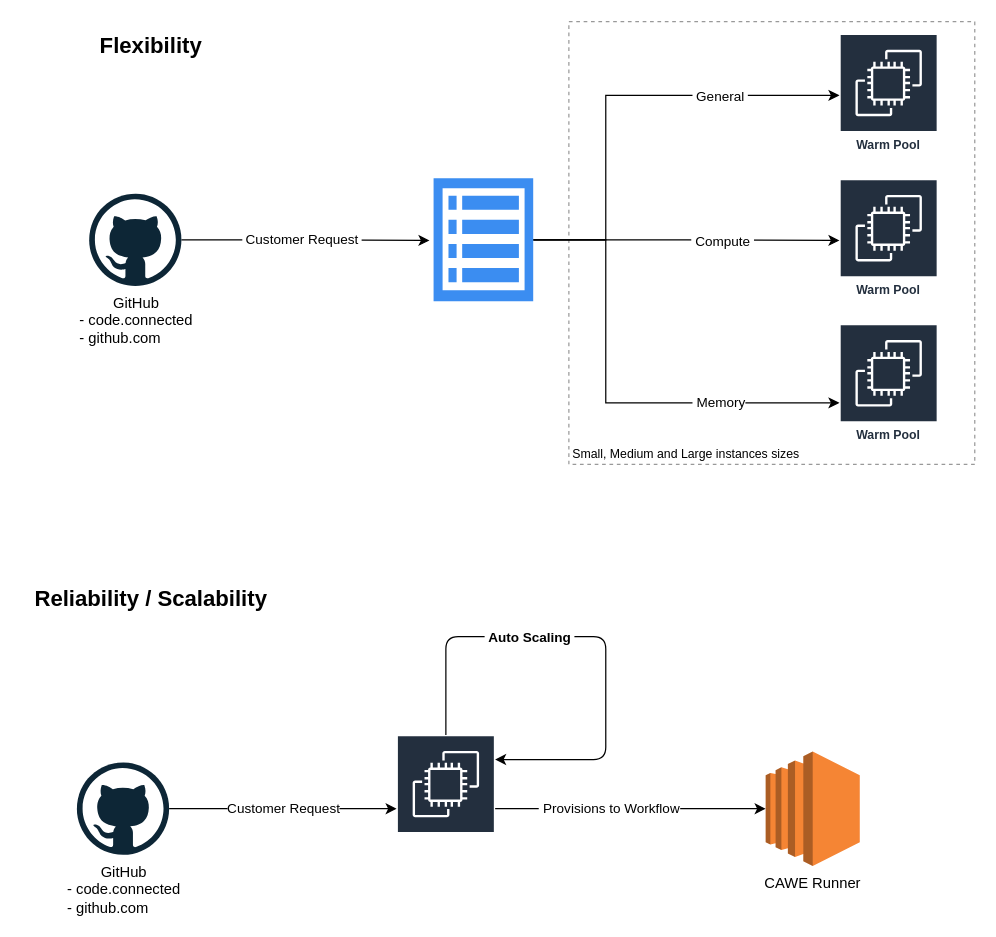
The diagram is 996 pixels wide and 937 high, and some of its shapes have lost their labels. The centre of each missing label's shape, as x and y in pixels:
"CAWE Warm Pool" goes at [445,808].
"Labelling Filter" goes at [483,239].
